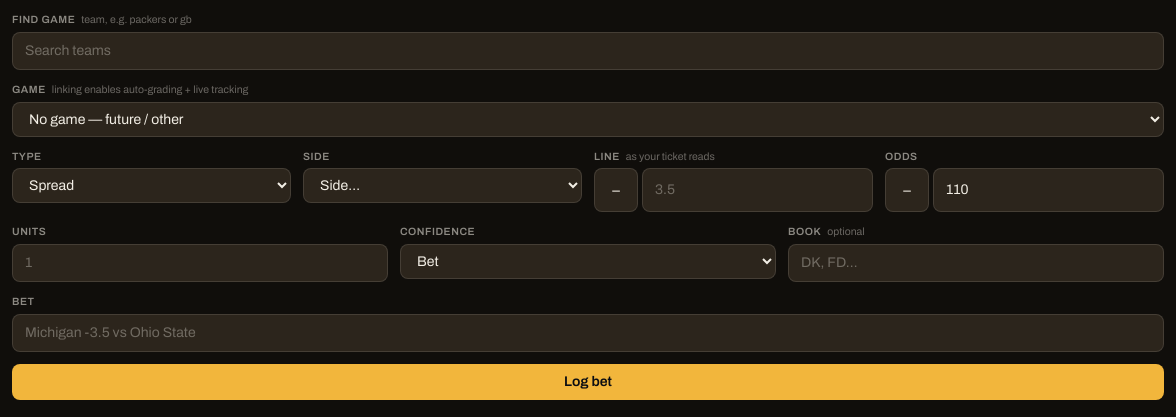
BetForm suggestions (0083 follow-up) › picking the favorite fills the closing spread with its sign, and says so
Select "UGA @ BAMA · Sat 2:30 PM CT" in the dropdown labelled "Game" at (588, 119), box left=12, top=102, right=1164, bottom=136
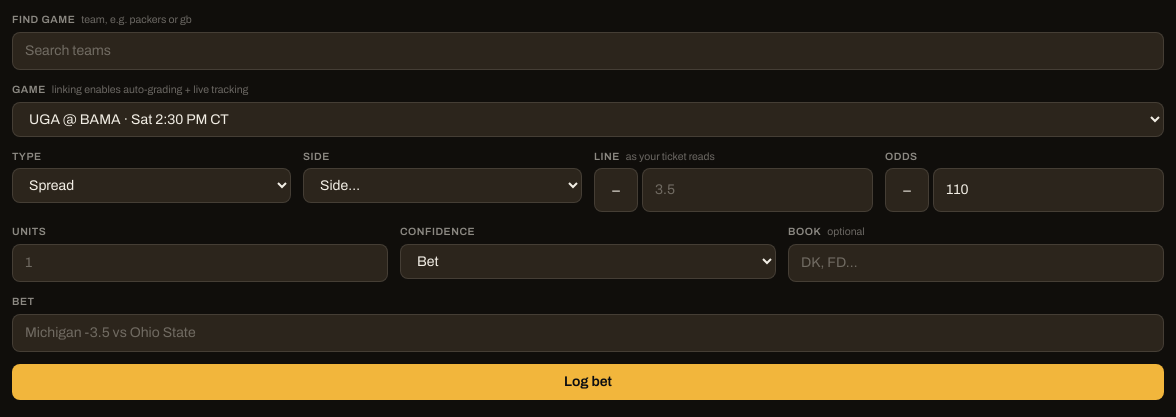
Select "BAMA" in the dropdown labelled "Side" at (442, 186), box left=303, top=168, right=582, bottom=203
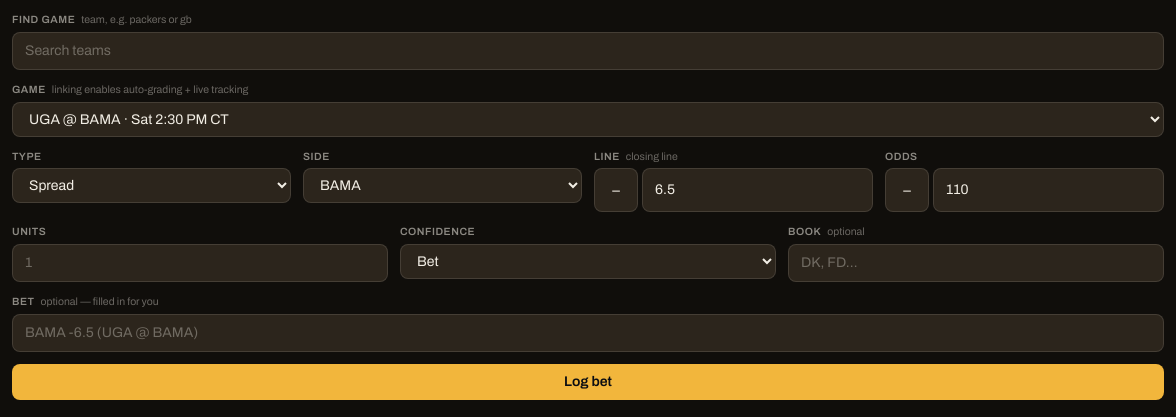
expect the text "closing line" is shown: met, box left=626, top=150, right=678, bottom=162
